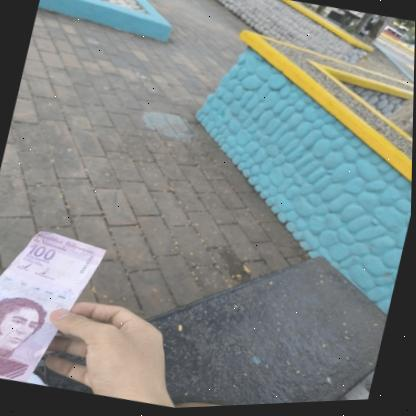vef_front: (0, 216, 110, 394)
